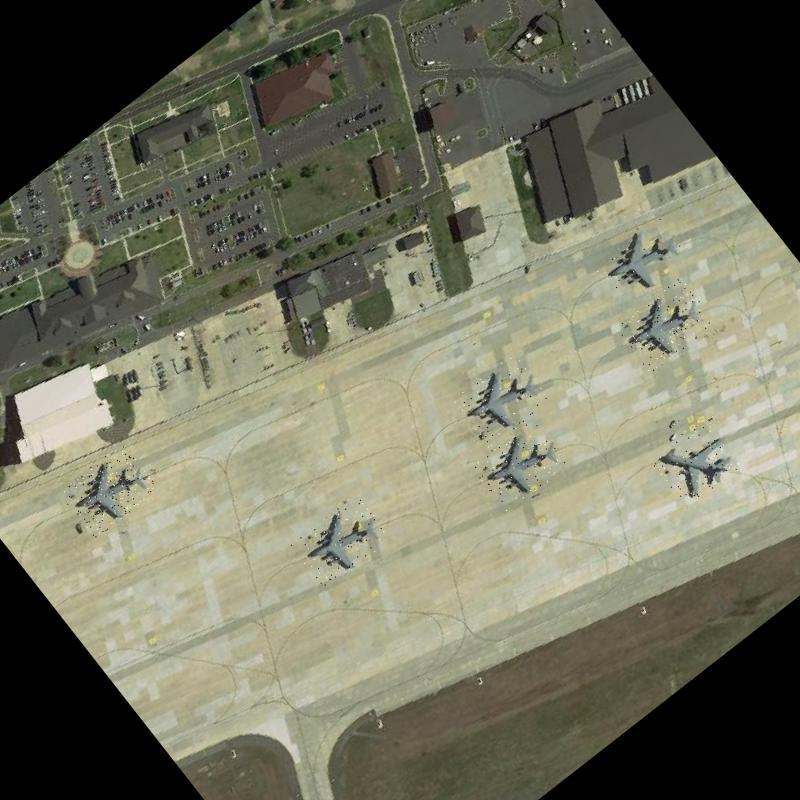A18: (650, 415, 744, 508)
A3: (589, 210, 693, 310), (452, 349, 554, 449), (58, 442, 160, 540), (470, 416, 571, 514), (290, 493, 392, 590), (616, 277, 716, 374)
